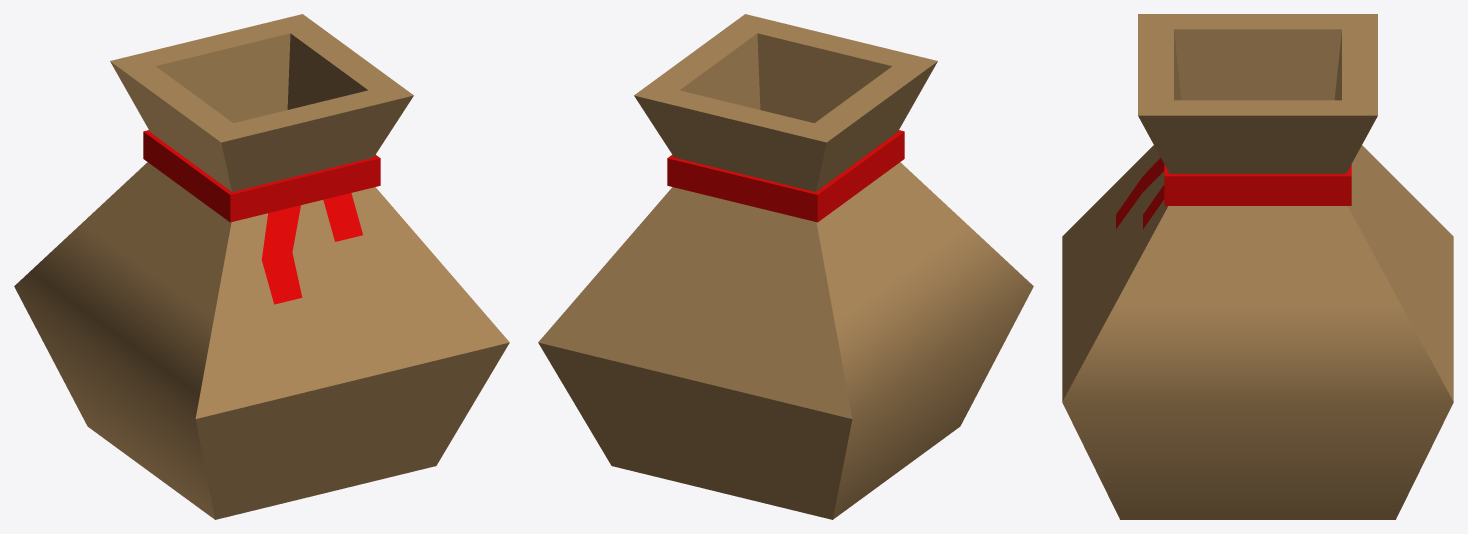
Rendered from 033 Xmas_candy_bag.fbx.
3 views of the same model, side by side, from view 1: azimuth 30°, elevation 25°; view 2: azimuth 150°, elevation 25°; view 3: azimuth 270°, elevation 25° (orthographic). The views are drawn at different scales.
Parts seen in each view (by area): view 1: Lowpoly_Christmas_Pack_033:pCube1; view 2: Lowpoly_Christmas_Pack_033:pCube1; view 3: Lowpoly_Christmas_Pack_033:pCube1.
Boxes of the visible parts, x1,y1,x2,y2 form: Lowpoly_Christmas_Pack_033:pCube1: [14, 14, 509, 519]; Lowpoly_Christmas_Pack_033:pCube1: [538, 14, 1033, 519]; Lowpoly_Christmas_Pack_033:pCube1: [1062, 14, 1453, 519].
Size of the model in its own units: 1.42 by 1.59 by 1.42.
